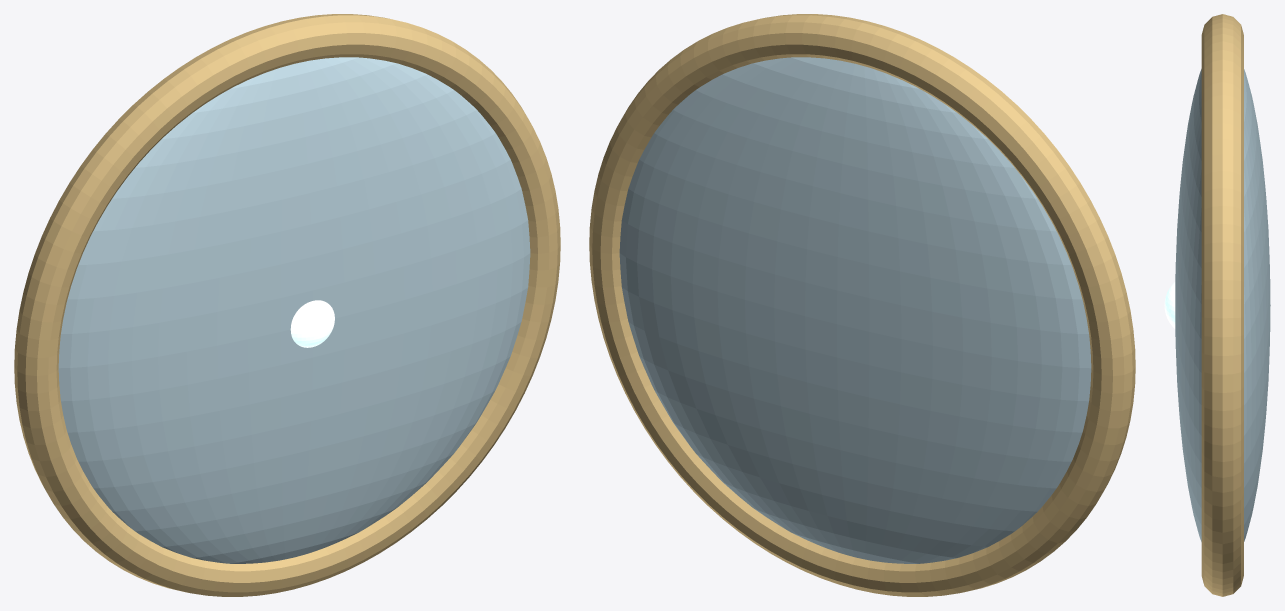
The model's file is clock_core.glb.
The picture shows the model from 3 angles, left to right: view 1: azimuth 30°, elevation 25°; view 2: azimuth 150°, elevation 25°; view 3: azimuth 270°, elevation 25°; orthographic projection. The views are drawn at different scales.
Visible parts, largest first — view 1: clock_core; view 2: clock_core; view 3: clock_core.
Part boxes in pixels (x1,y1,x2,y2): clock_core: (14,14,560,596); clock_core: (589,14,1135,596); clock_core: (1164,14,1270,596).
Bounding box in the file's own units: 2.2 × 2.2 × 0.4.
